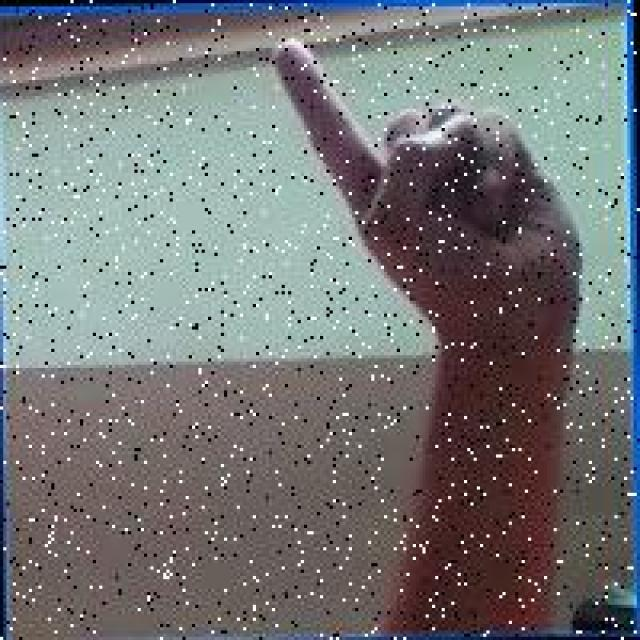Z: (272, 25, 582, 342)
